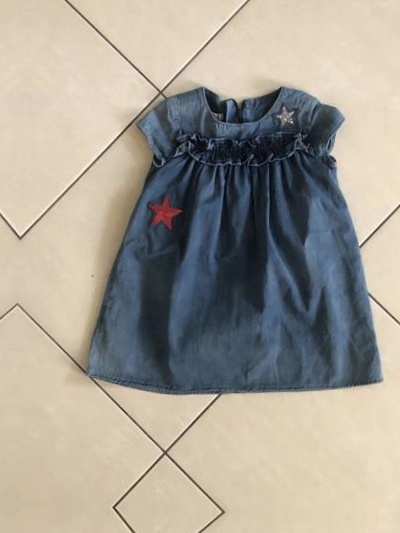Dress: (71, 22, 393, 406)
